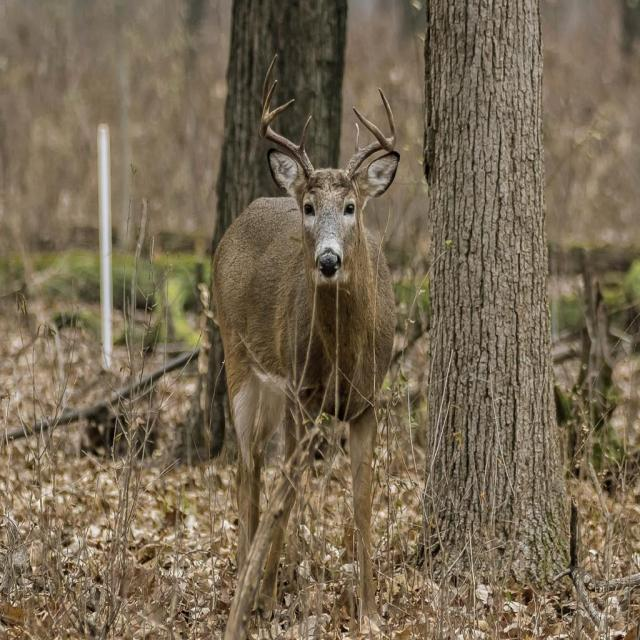Deer: (210, 51, 397, 638)
